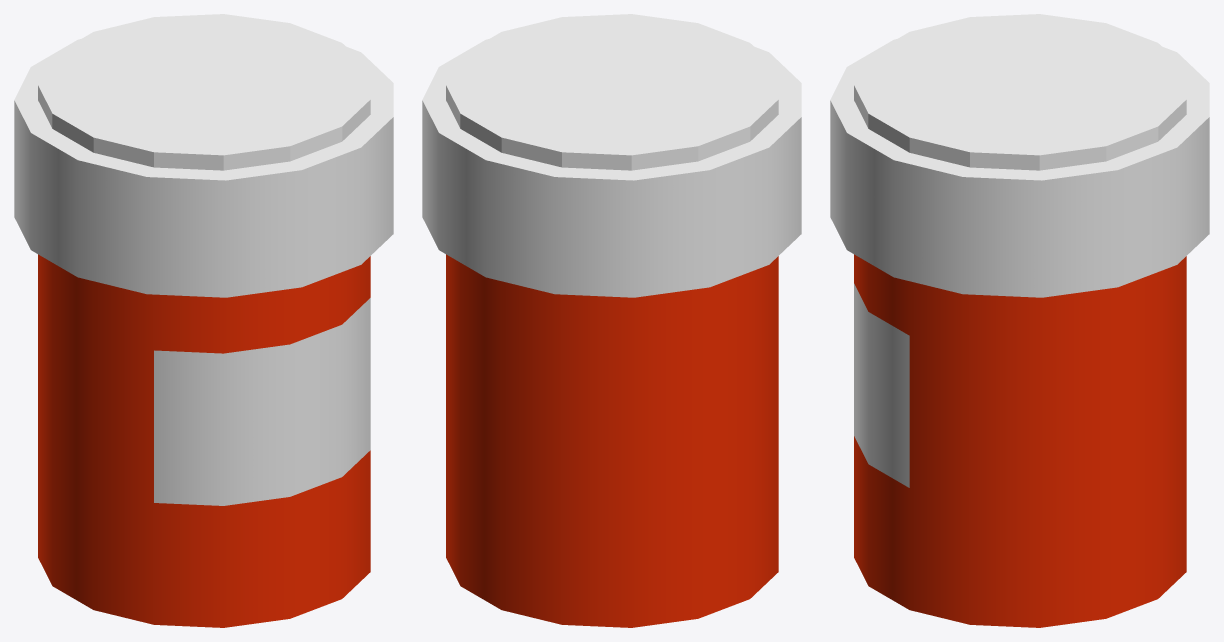
The model's file is leki.FBX.
The picture shows the model from 3 angles, left to right: view 1: azimuth 30°, elevation 25°; view 2: azimuth 150°, elevation 25°; view 3: azimuth 270°, elevation 25°; orthographic projection.
Parts seen in each view (by area): view 1: Cylinder001; view 2: Cylinder001; view 3: Cylinder001.
Boxes of the visible parts, left/top/right/bottom form: Cylinder001: left=14, top=14, right=393, bottom=627; Cylinder001: left=422, top=14, right=801, bottom=627; Cylinder001: left=830, top=14, right=1209, bottom=627.
Bounding box in the file's own units: 5.74 × 7.84 × 5.7.
